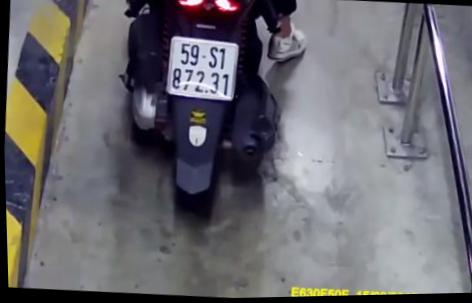LP: (162, 34, 240, 104)
